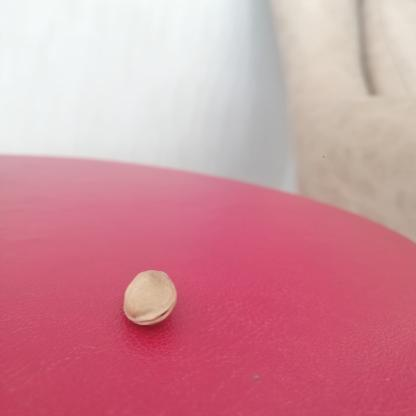pistachio: (118, 260, 184, 329)
